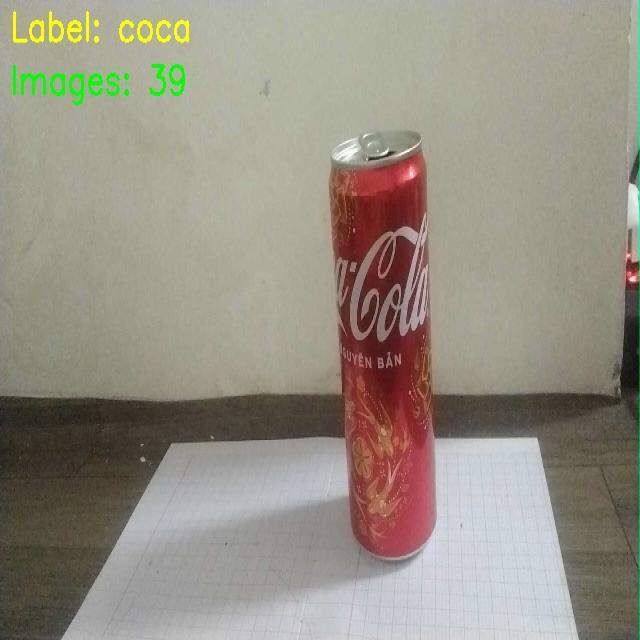Coca: (303, 114, 462, 570)
